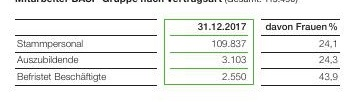table: (0, 0, 359, 102)
